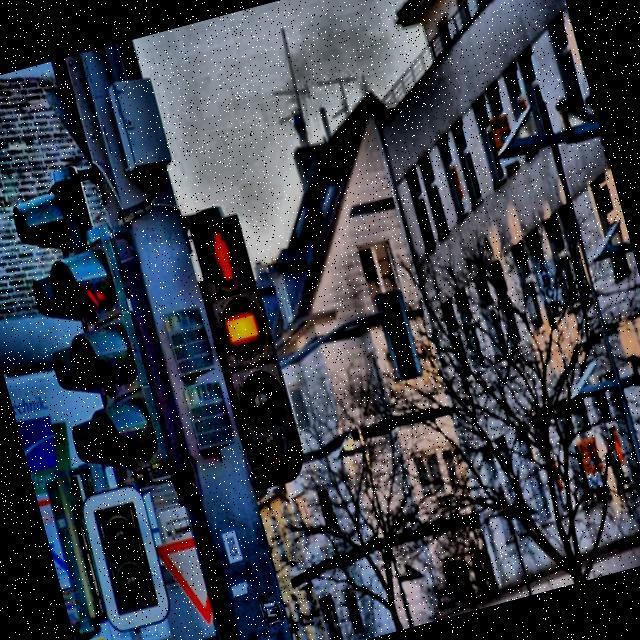red_light: (208, 228, 237, 284)
